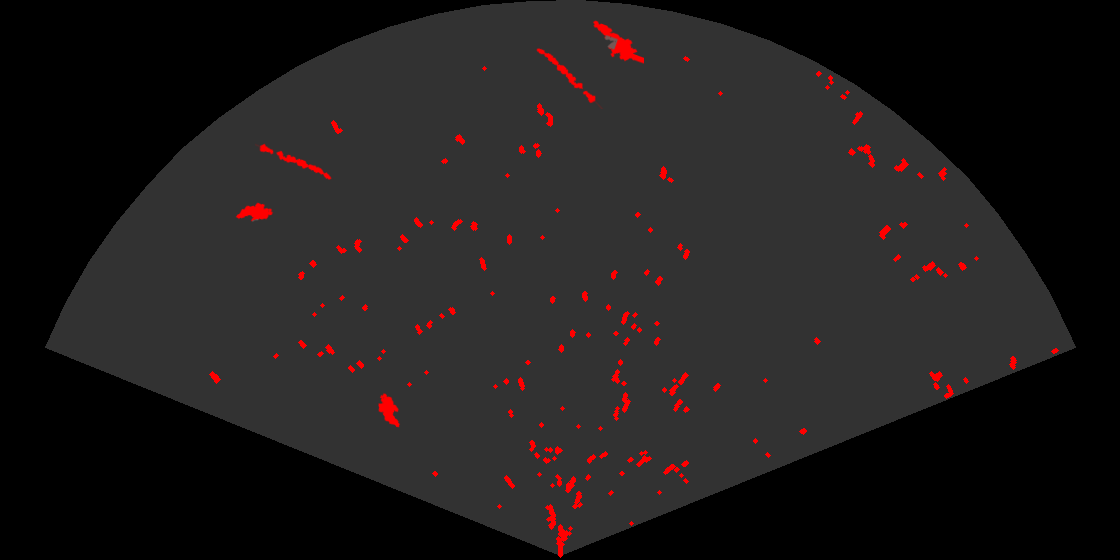AUV: (377, 391, 402, 429), (234, 201, 275, 223)
chain: (535, 47, 605, 109), (255, 142, 334, 181)
frogman: (591, 19, 644, 65)
